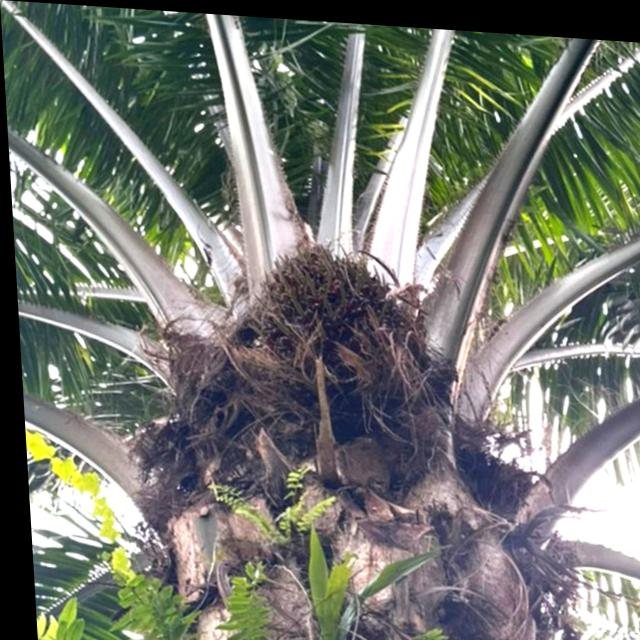ripe: (244, 227, 413, 367)
